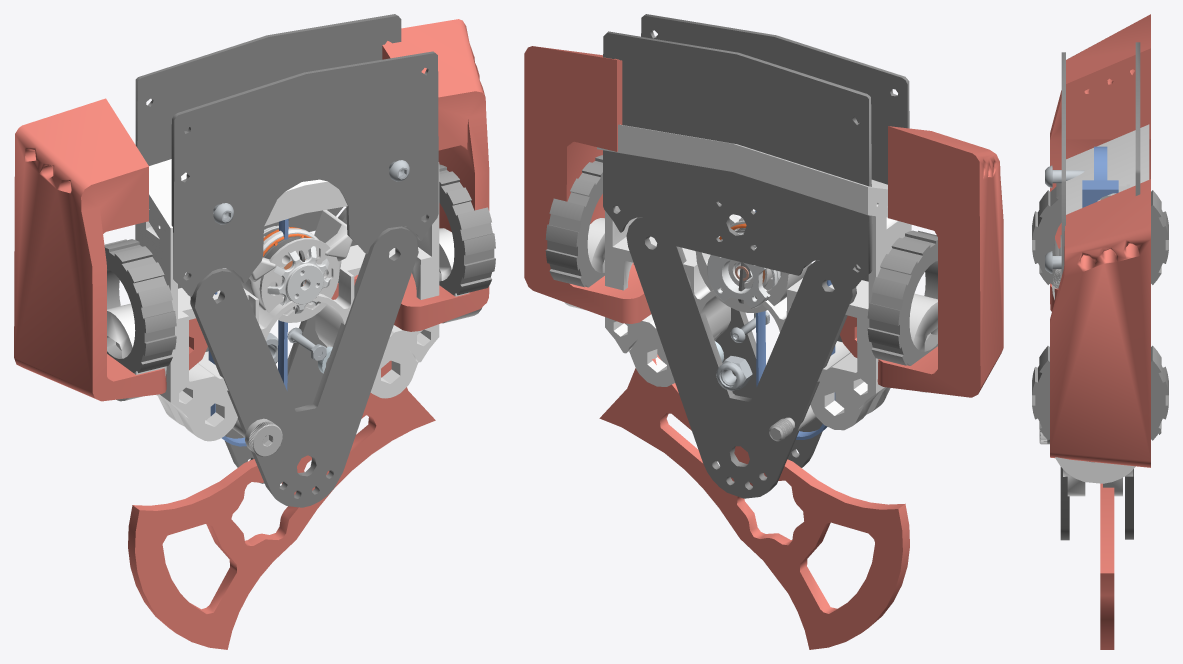
Rendered from deadline-opt.glb.
3 views of the same model, side by side, from view 1: azimuth 30°, elevation 25°; view 2: azimuth 150°, elevation 25°; view 3: azimuth 270°, elevation 25° (orthographic).
Parts seen in each view (by area): view 1: bottom_plate_primitive0, weapon_primitive0, chassis_primitive0, treadtire_primitive0, bearing_spacer_primitive0, 28mm-Endbell-9_primitive0, pulley_guard_primitive0, Socket_button_head_screw_M4x07_x_22_primitive0, motor-shock_primitive0, shock-2_primitive0; view 2: bottom_plate_primitive0, weapon_primitive0, chassis_primitive0, treadtire_primitive0, 28mm-Endbell-9_primitive0, pulley_guard_primitive0, Socket_button_head_screw_M4x07_x_22_primitive0, shock-2_primitive0; view 3: weapon_primitive0, treadtire_primitive0, chassis_primitive0, bottom_plate_primitive0, shock-2_primitive0, Socket_button_head_screw_M4x07_x_22_primitive0.
Part boxes in pixels (left/top/right/bottom): bottom_plate_primitive0: left=135, top=14, right=438, bottom=507; weapon_primitive0: left=14, top=19, right=489, bottom=649; chassis_primitive0: left=107, top=159, right=482, bottom=441; treadtire_primitive0: left=104, top=164, right=495, bottom=372; bearing_spacer_primitive0: left=259, top=228, right=339, bottom=322; 28mm-Endbell-9_primitive0: left=263, top=225, right=330, bottom=313; pulley_guard_primitive0: left=227, top=209, right=352, bottom=310; Socket_button_head_screw_M4x07_x_22_primitive0: left=213, top=160, right=409, bottom=363; motor-shock_primitive0: left=232, top=418, right=282, bottom=456; shock-2_primitive0: left=208, top=218, right=288, bottom=446; bottom_plate_primitive0: left=603, top=14, right=909, bottom=498; weapon_primitive0: left=524, top=46, right=1003, bottom=649; chassis_primitive0: left=564, top=124, right=937, bottom=430; treadtire_primitive0: left=545, top=155, right=937, bottom=365; 28mm-Endbell-9_primitive0: left=707, top=233, right=780, bottom=308; pulley_guard_primitive0: left=695, top=203, right=811, bottom=312; Socket_button_head_screw_M4x07_x_22_primitive0: left=716, top=311, right=769, bottom=390; shock-2_primitive0: left=755, top=210, right=835, bottom=439; weapon_primitive0: left=1050, top=14, right=1150, bottom=649; treadtire_primitive0: left=1032, top=183, right=1168, bottom=462; chassis_primitive0: left=1052, top=124, right=1149, bottom=496; bottom_plate_primitive0: left=1060, top=42, right=1140, bottom=540; shock-2_primitive0: left=1082, top=146, right=1118, bottom=207; Socket_button_head_screw_M4x07_x_22_primitive0: left=1045, top=165, right=1084, bottom=273.
Bounding box in the file's own units: 7710 × 9536 × 2027.
